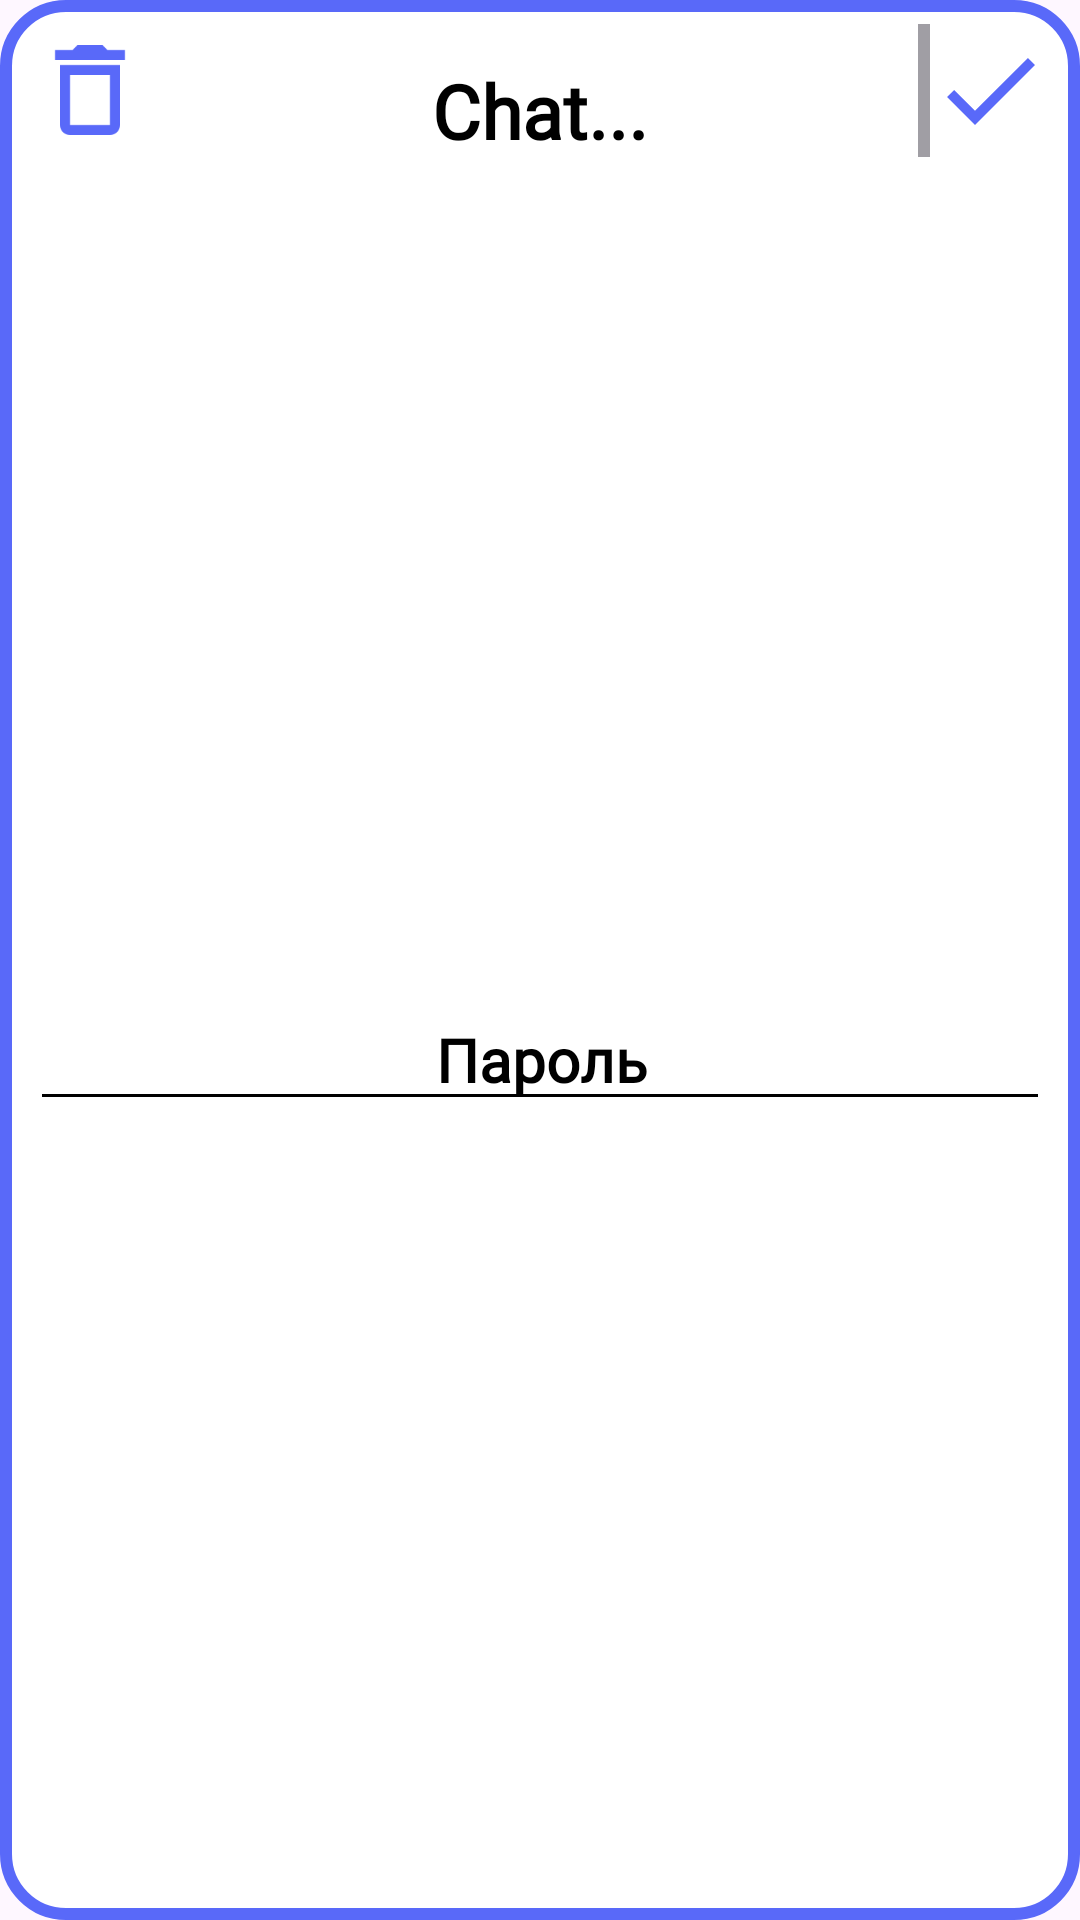

Icon click points for this 1080px×1920px phone screenshot, format point (x, y):
check: point (991, 91)
delete: point (90, 90)
